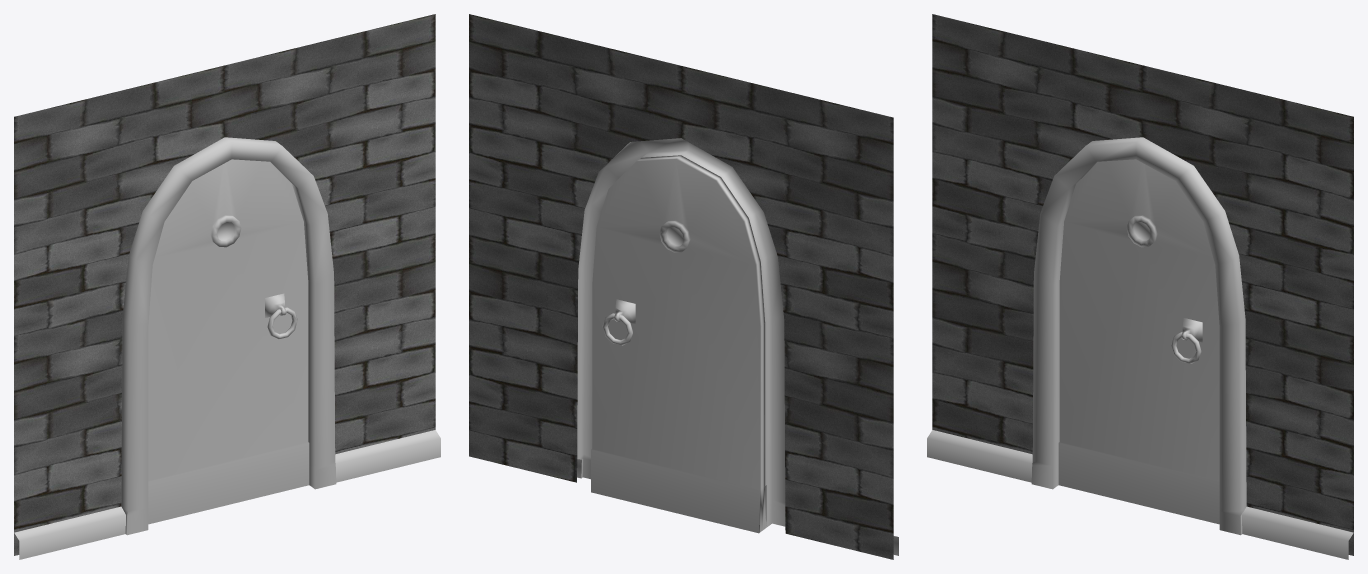
The model's file is GenDoorWall.fbx.
3 renders of one model, left to right at view 1: azimuth 30°, elevation 25°; view 2: azimuth 150°, elevation 25°; view 3: azimuth 330°, elevation 25°, orthographic.
Visible parts, largest first — view 1: DoorWall_Wall, DoorWall_Door, DoorWall_DoorTrim, DoorWall_Trim; view 2: DoorWall_Wall, DoorWall_Door, DoorWall_DoorTrim; view 3: DoorWall_Wall, DoorWall_Door, DoorWall_DoorTrim, DoorWall_Trim.
Boxes of the visible parts, x1,y1,x2,y2 form: DoorWall_Wall: (14,14,435,555); DoorWall_Door: (148,159,309,524); DoorWall_DoorTrim: (121,137,336,535); DoorWall_Trim: (14,430,440,559); DoorWall_Wall: (469,14,893,559); DoorWall_Door: (591,155,766,533); DoorWall_DoorTrim: (577,138,785,528); DoorWall_Wall: (932,14,1353,555); DoorWall_Door: (1058,159,1219,524); DoorWall_DoorTrim: (1031,137,1246,535); DoorWall_Trim: (927,430,1353,559).
Size of the model in its own units: 5.27 by 5.25 by 0.5299.
